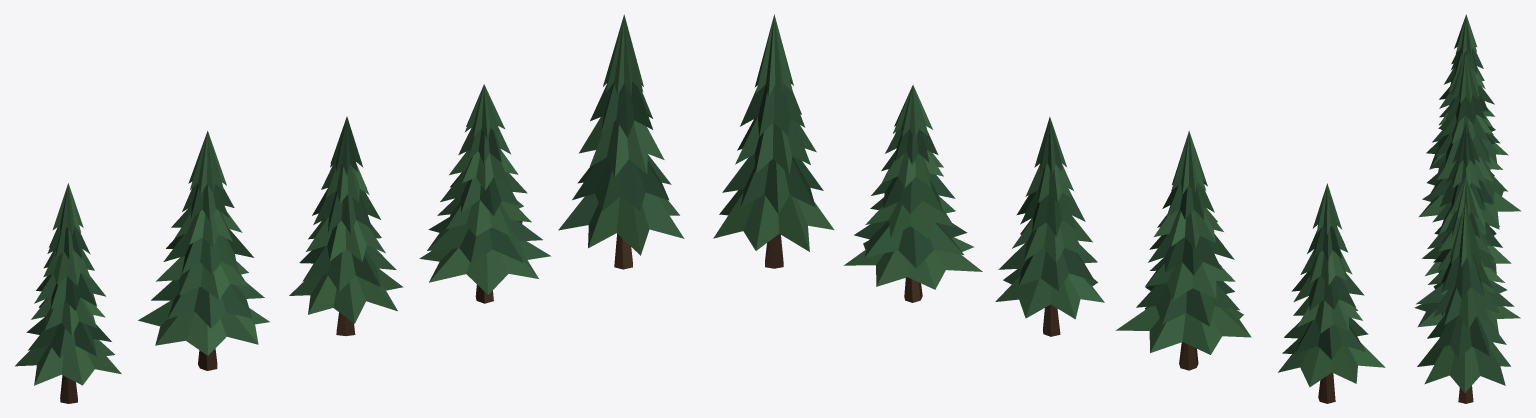
File: ranvora_v2_pine.glb
3 renders of one model, left to right at view 1: azimuth 30°, elevation 25°; view 2: azimuth 150°, elevation 25°; view 3: azimuth 270°, elevation 25°, orthographic. The views are drawn at different scales.
Parts seen in each view (by area): view 1: pine_B_mesh, pine_E_mesh, pine_D_mesh, pine_C_mesh, pine_A_mesh; view 2: pine_B_mesh, pine_E_mesh, pine_D_mesh, pine_C_mesh, pine_A_mesh; view 3: pine_E_mesh, pine_B_mesh, pine_D_mesh, pine_C_mesh, pine_A_mesh.
Part boxes in pixels (x1=…): pine_B_mesh: x1=138, y1=131, x2=269, y2=370; pine_E_mesh: x1=558, y1=14, x2=684, y2=269; pine_D_mesh: x1=419, y1=84, x2=551, y2=303; pine_C_mesh: x1=289, y1=116, x2=403, y2=335; pine_A_mesh: x1=15, y1=183, x2=121, y2=403; pine_B_mesh: x1=1116, y1=130, x2=1251, y2=370; pine_E_mesh: x1=713, y1=14, x2=834, y2=268; pine_D_mesh: x1=844, y1=85, x2=982, y2=302; pine_C_mesh: x1=995, y1=116, x2=1104, y2=336; pine_A_mesh: x1=1278, y1=183, x2=1385, y2=403; pine_E_mesh: x1=1417, y1=202, x2=1510, y2=403; pine_B_mesh: x1=1418, y1=53, x2=1521, y2=229; pine_D_mesh: x1=1414, y1=177, x2=1520, y2=332; pine_C_mesh: x1=1422, y1=123, x2=1511, y2=275; pine_A_mesh: x1=1426, y1=14, x2=1508, y2=169.
Size of the model in its own units: 26.08 by 9.52 by 4.68.
